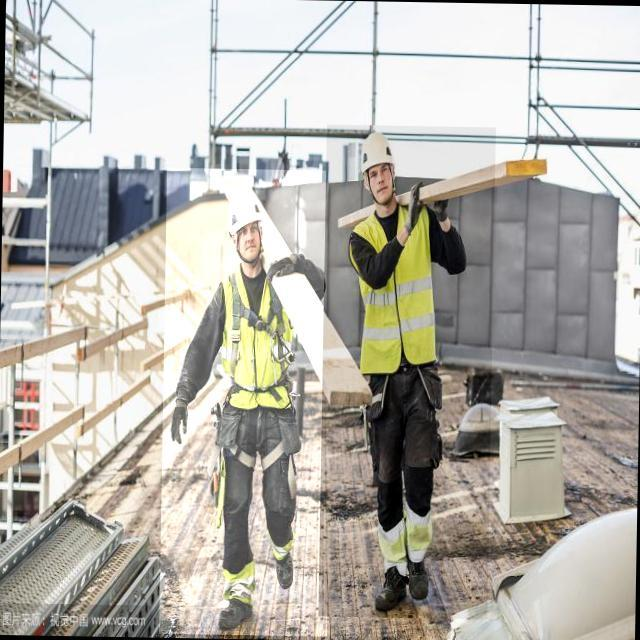Gloves: (404, 168, 458, 233), (264, 242, 303, 282), (165, 399, 198, 445)
Helmet: (223, 186, 272, 246), (356, 127, 405, 182)
Person: (163, 113, 334, 640), (338, 99, 479, 632)
Safety Boot: (207, 585, 262, 639), (370, 558, 413, 621), (268, 543, 302, 599), (407, 556, 438, 606)
Safety Vest: (342, 192, 456, 385), (210, 252, 308, 416)
